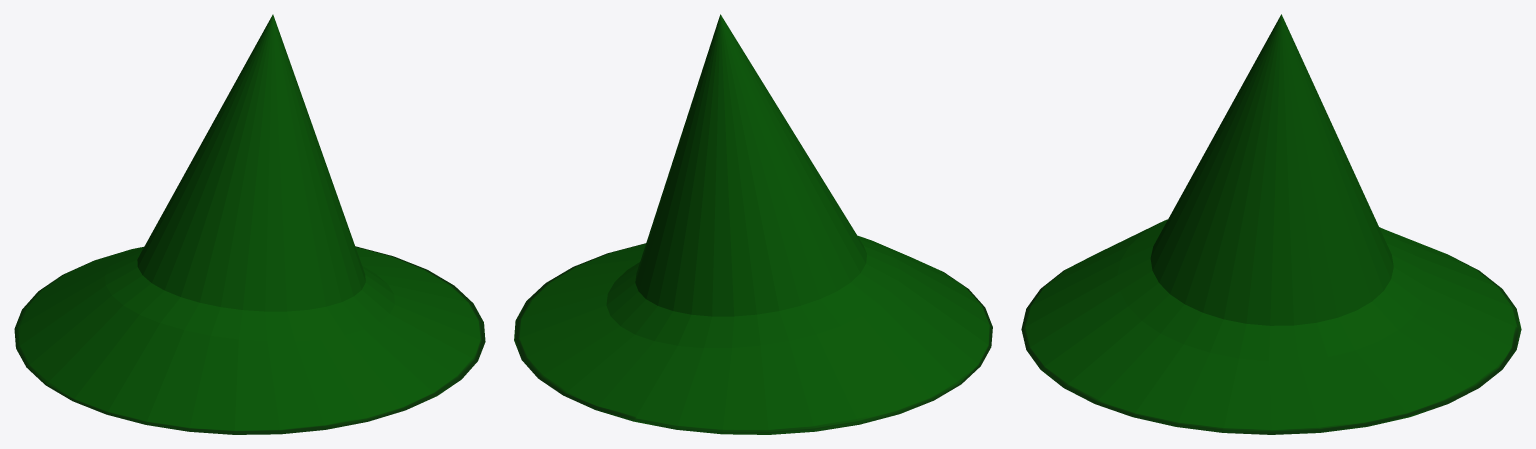
File: wizard_hat.glb
3 renders of one model, left to right at view 1: azimuth 30°, elevation 25°; view 2: azimuth 150°, elevation 25°; view 3: azimuth 270°, elevation 25°, orthographic. The views are drawn at different scales.
Parts seen in each view (by area): view 1: Cylinder; view 2: Cylinder; view 3: Cylinder.
Boxes of the visible parts, x1,y1,x2,y2 form: Cylinder: (14, 14, 485, 434); Cylinder: (514, 14, 992, 434); Cylinder: (1021, 14, 1521, 434).
Bounding box in the file's own units: 3.24 × 2.36 × 3.24.
1 material, 1 textured.
